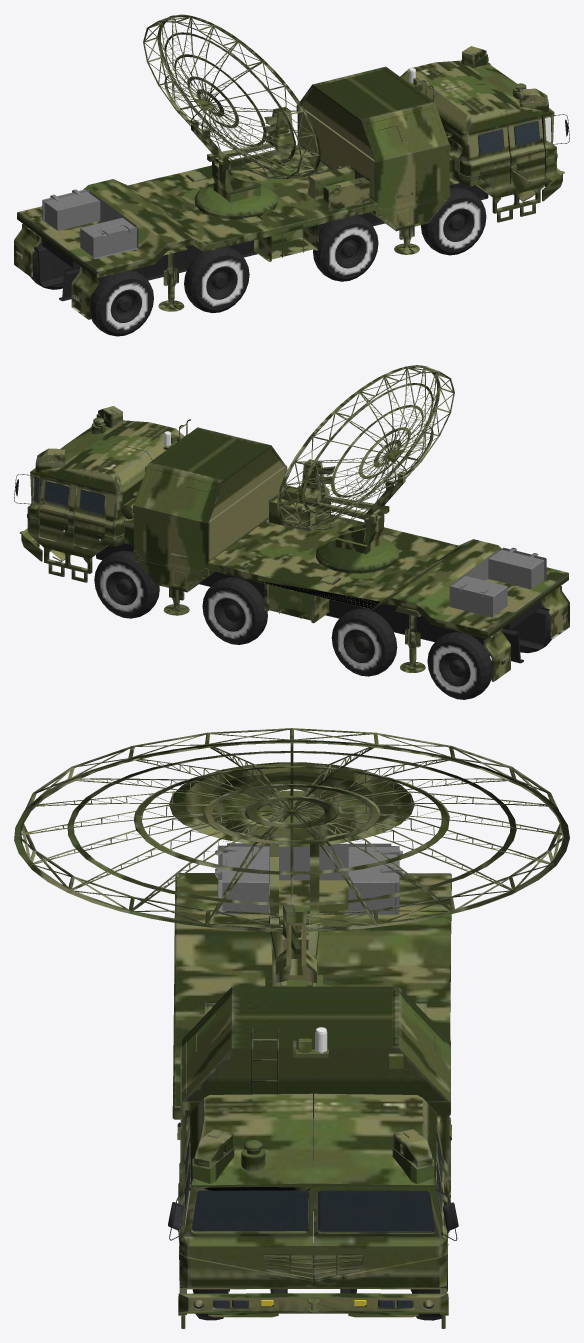
The model's file is 雷达车.gltf.
3 views of the same model, one above another, from view 1: azimuth 30°, elevation 25°; view 2: azimuth 150°, elevation 25°; view 3: azimuth 270°, elevation 25° (orthographic). The views are drawn at different scales.
Visible parts, largest first — view 1: Dish; view 2: Dish; view 3: Dish.
Boxes of the visible parts, x1,y1,x2,y2 form: Dish: (14,14,569,336); Dish: (14,365,569,699); Dish: (14,728,569,1328).
Bounding box in the file's own units: 633 × 303 × 368.
Materials: 1 (1 with a texture image).
